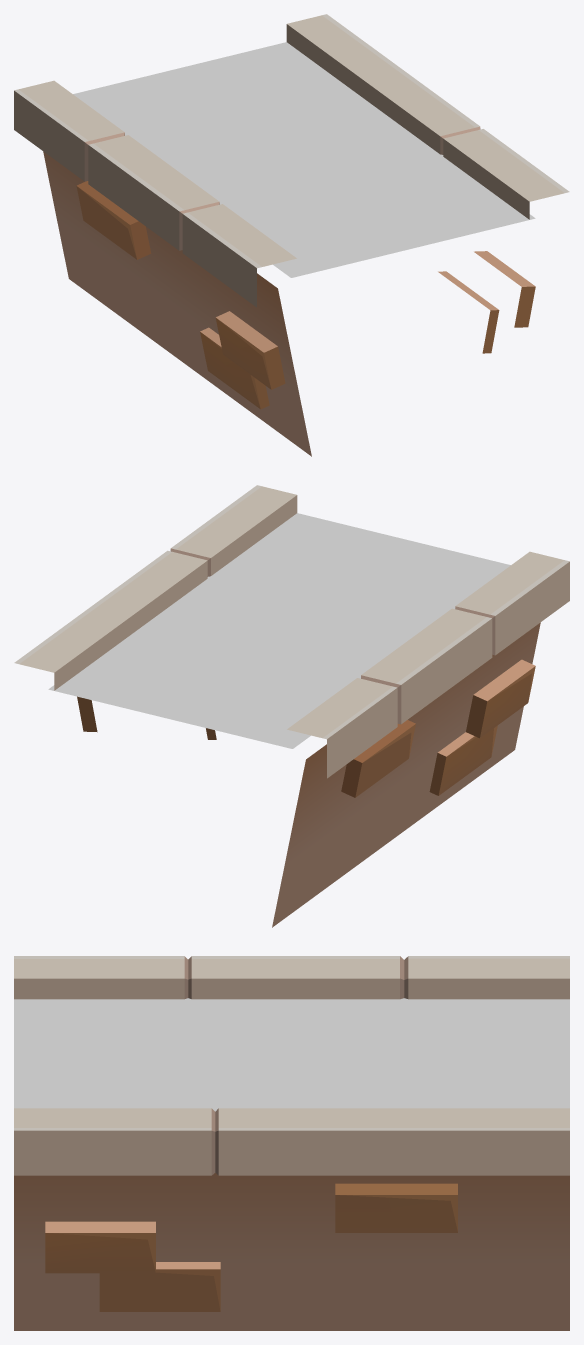
The model's file is PlanterBox_1.glb.
The picture shows the model from 3 angles, top to bottom: view 1: azimuth 30°, elevation 25°; view 2: azimuth 150°, elevation 25°; view 3: azimuth 270°, elevation 25°; orthographic projection. The views are drawn at different scales.
Parts seen in each view (by area): view 1: PlanterBox; view 2: PlanterBox; view 3: PlanterBox.
Boxes of the visible parts, x1=… form: PlanterBox: x1=14, y1=14, x2=569, y2=456; PlanterBox: x1=14, y1=485, x2=569, y2=927; PlanterBox: x1=14, y1=956, x2=569, y2=1330.
Size of the model in its own units: 0.5573 by 0.3437 by 0.75.
